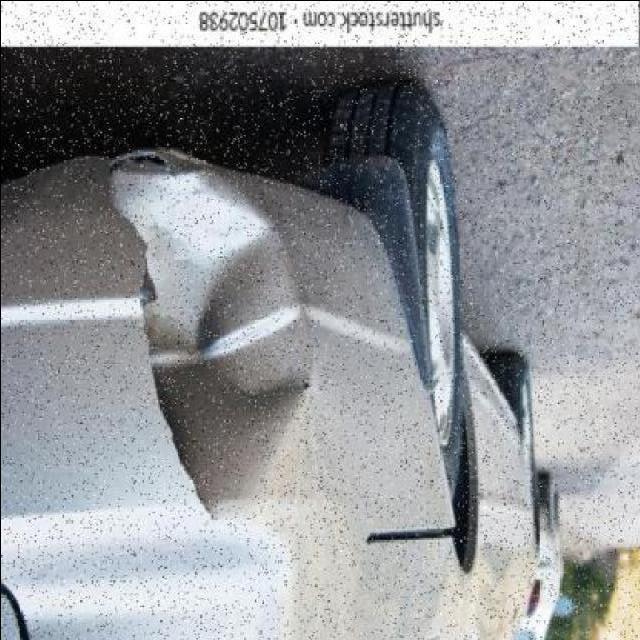rear-bumper-dent: (17, 112, 444, 590)
